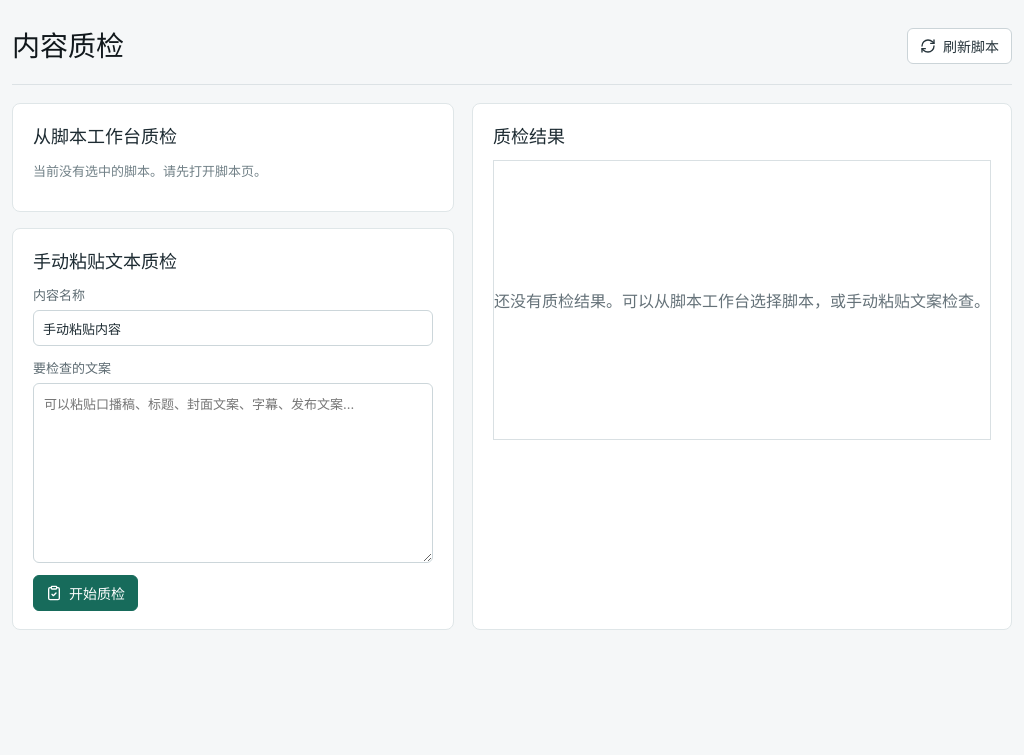
内容质检页面 › 能手动粘贴文本质检并保存记录
Replace the text in the field labelled "内容名称" with "手动文案". click: [233, 328]
box: top-left (33, 310), bottom-right (433, 346)
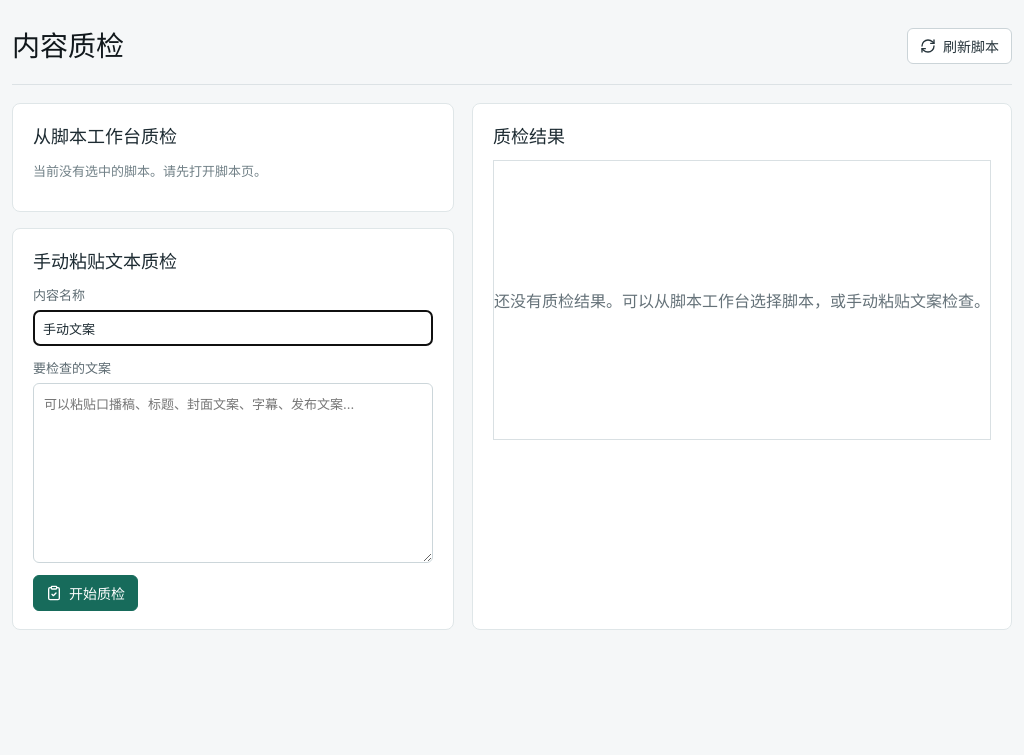
Type "大家都知道，这个风口炸裂，背后是流动性收紧。" into the text box labelled "要检查的文案". click: [233, 473]
box: top-left (33, 383), bottom-right (433, 563)
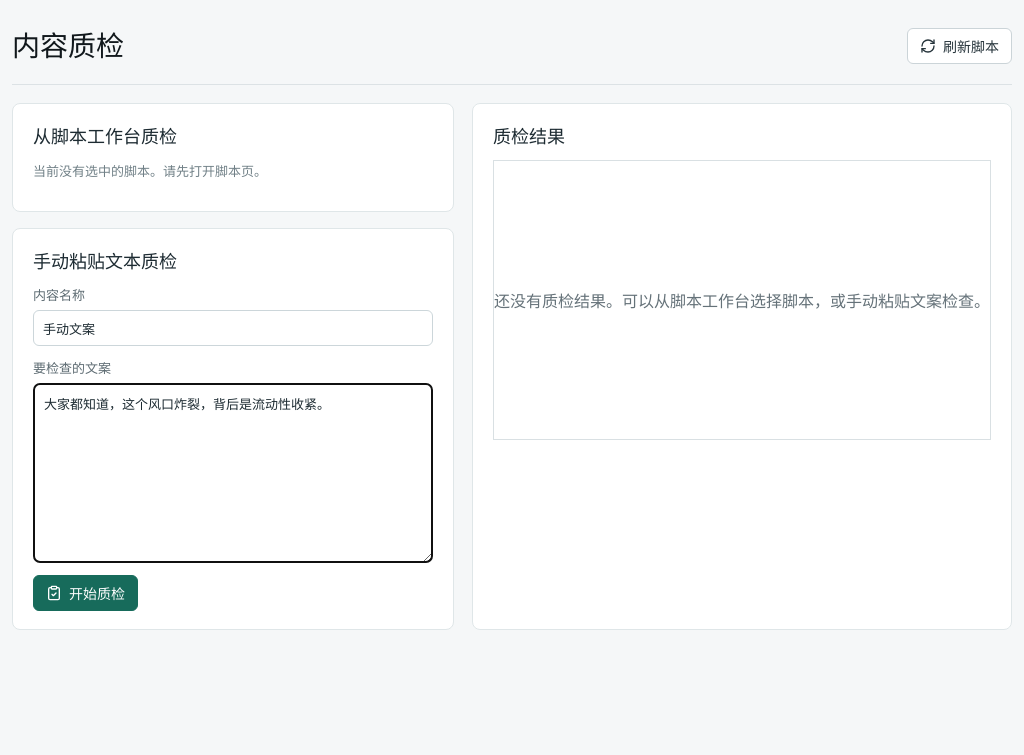
Click the button "开始质检". click: [86, 593]
box: top-left (33, 575), bottom-right (138, 611)
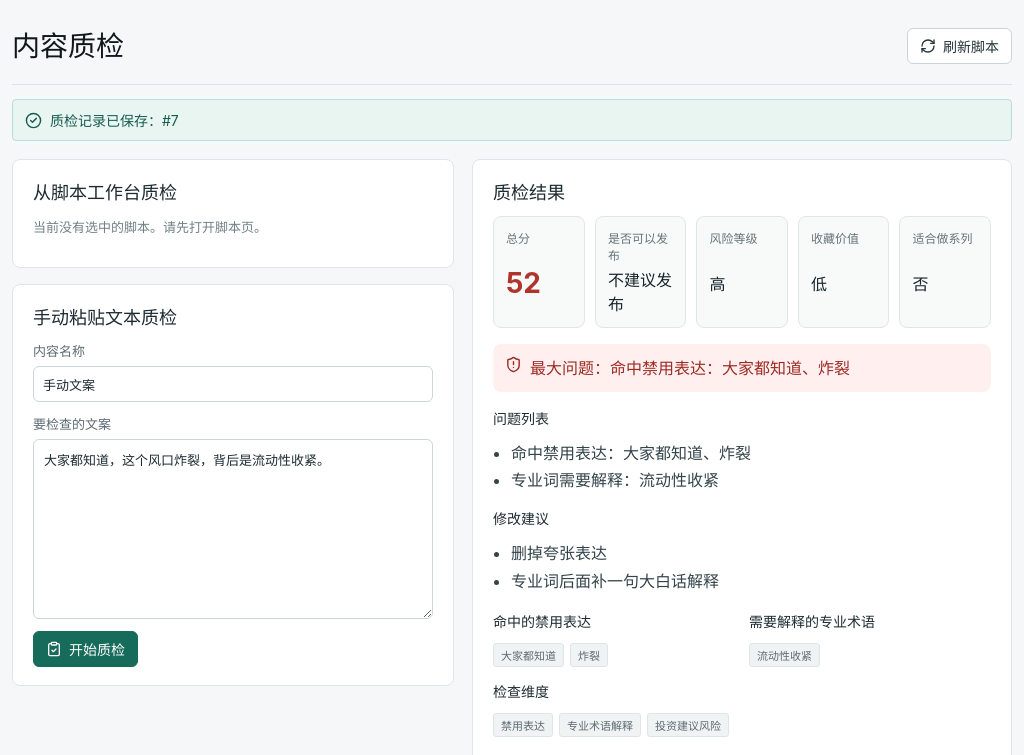
Expected: the text "质检记录已保存：#7" is shown, top-left (12, 99), bottom-right (1012, 141)
